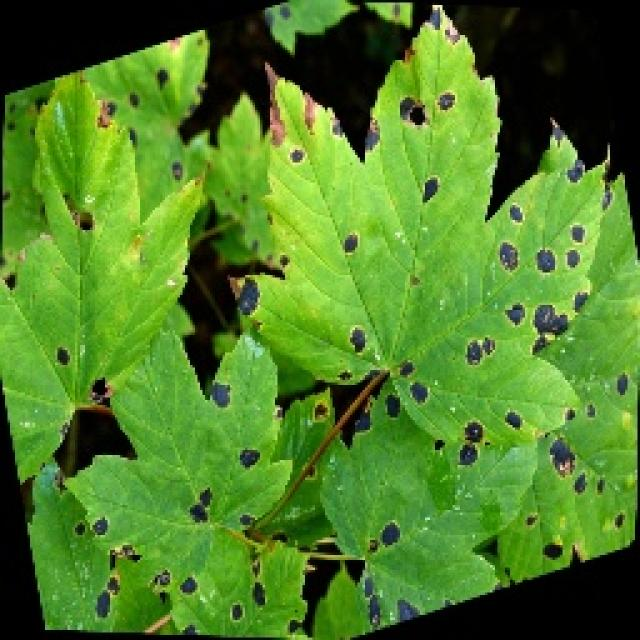Tar_Spot: (212, 30, 640, 640)
